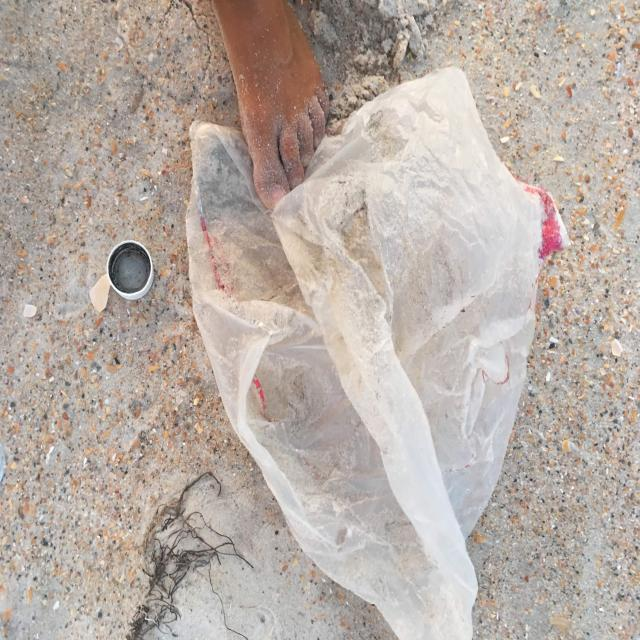litter: (180, 67, 544, 639), (109, 239, 153, 301), (545, 189, 573, 255)
